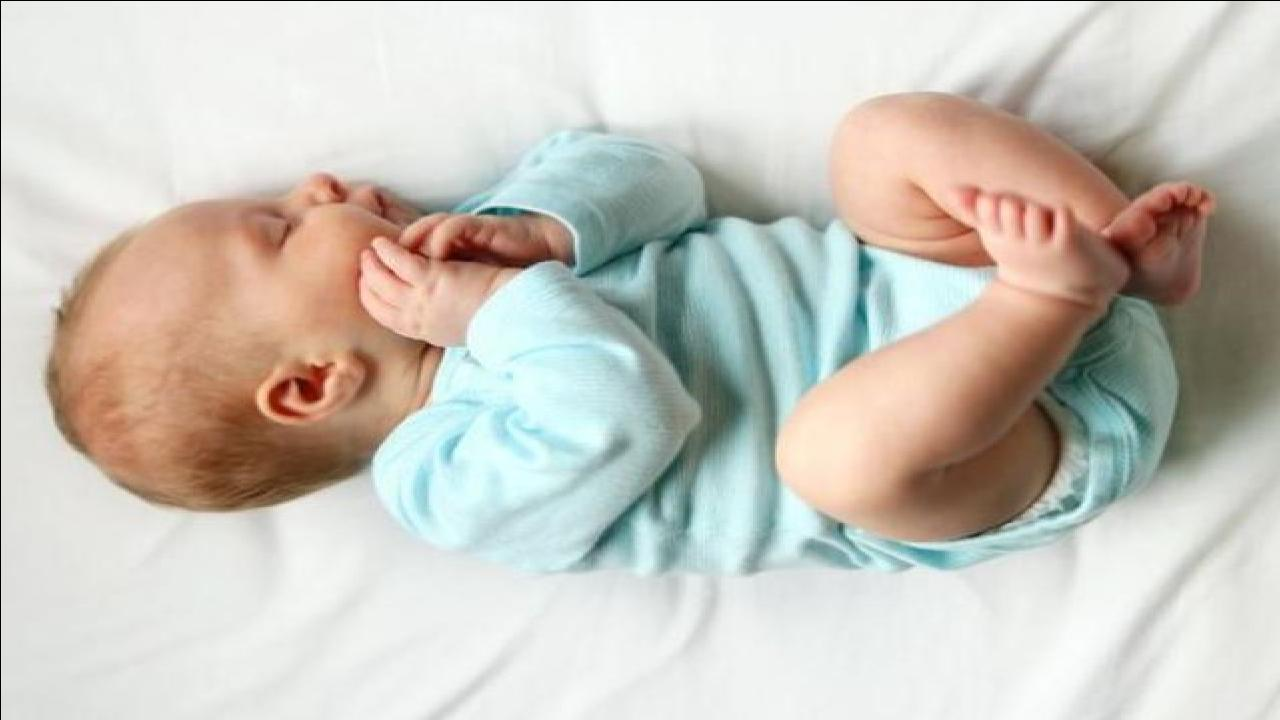hand: (357, 234, 492, 347), (394, 211, 544, 265)
